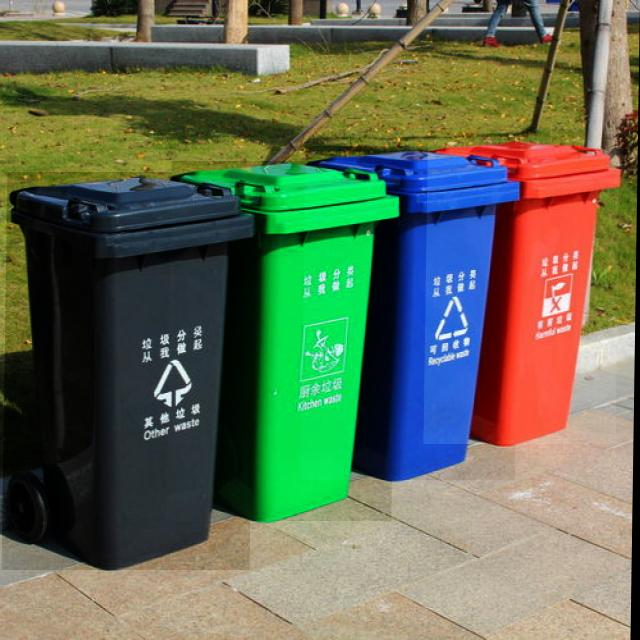garbage_bin: (4, 172, 256, 570), (168, 161, 397, 521), (303, 146, 521, 480), (425, 140, 620, 444)
